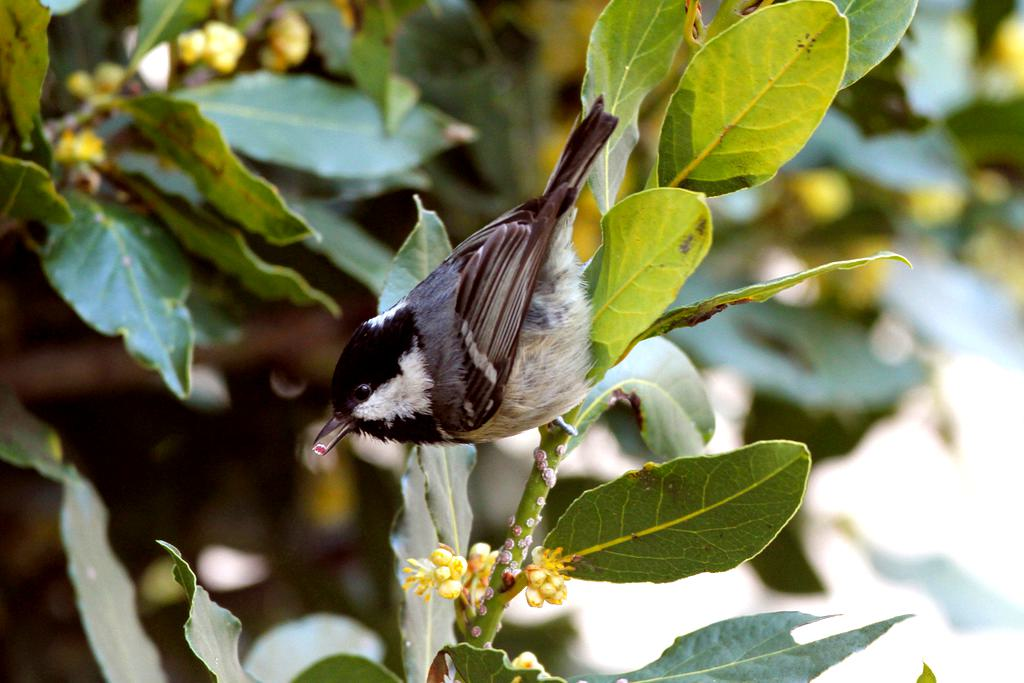PeriparusAter: (308, 89, 620, 459)
